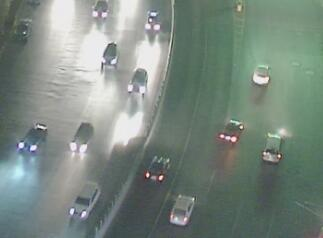car: (70, 182, 102, 218), (16, 121, 46, 152), (68, 122, 95, 155), (169, 192, 195, 225), (145, 154, 171, 181), (219, 118, 243, 145), (262, 133, 284, 162), (127, 66, 149, 95), (99, 40, 119, 69), (251, 62, 272, 85), (10, 18, 29, 43), (144, 9, 162, 33), (89, 1, 107, 18)
